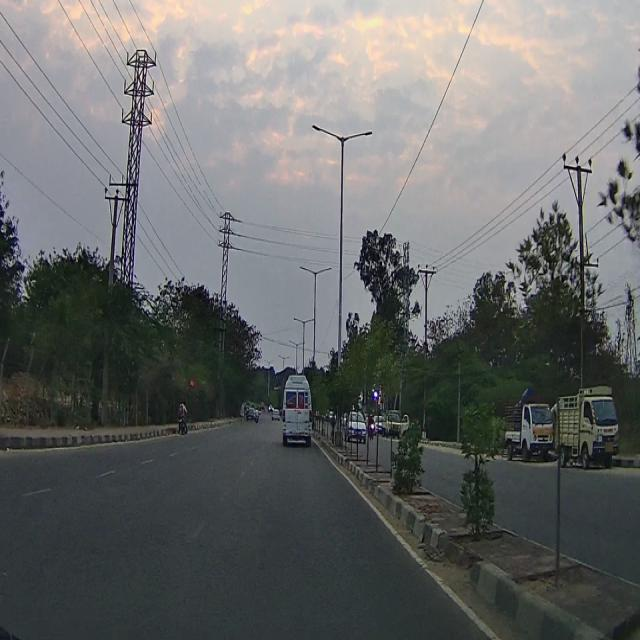bus ahead at: (276, 368, 315, 454)
plant ahead at: (452, 360, 510, 548), (387, 412, 425, 499)
